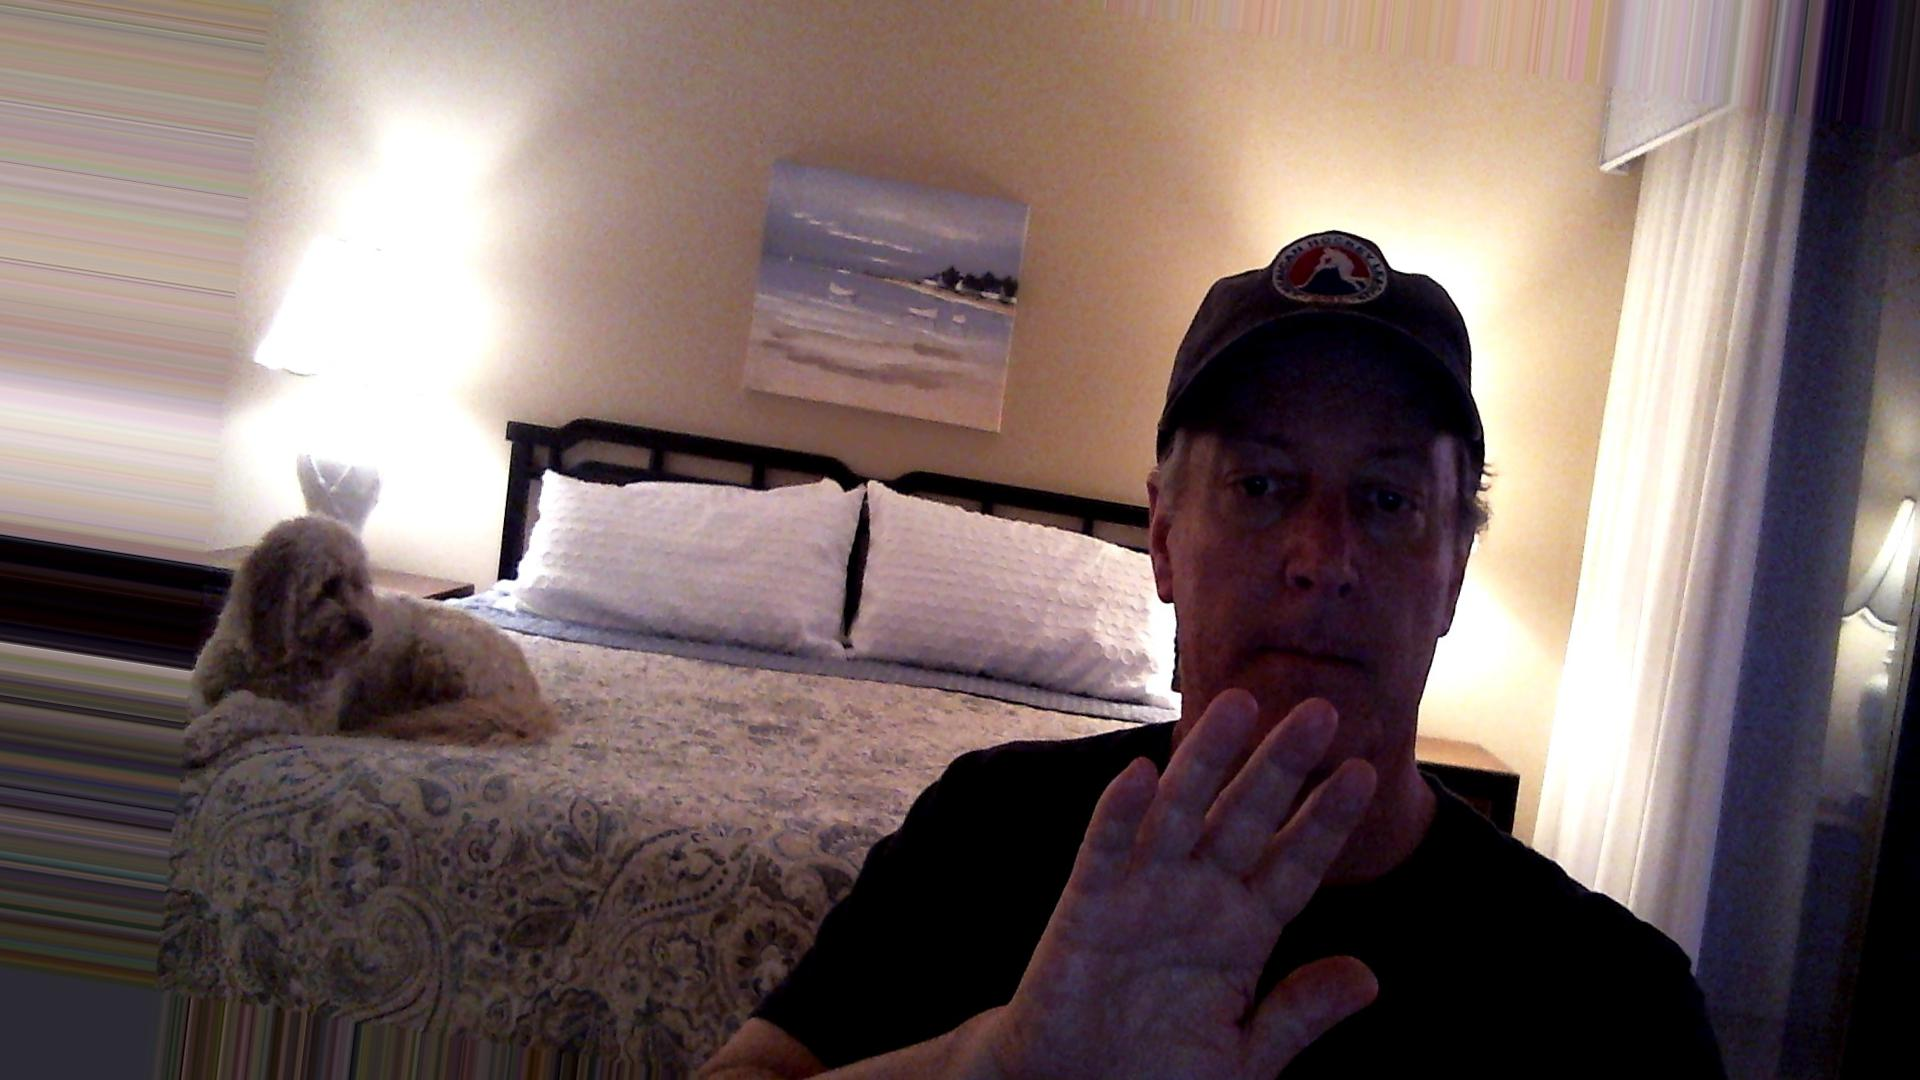Hello: (1005, 673, 1404, 1080)
